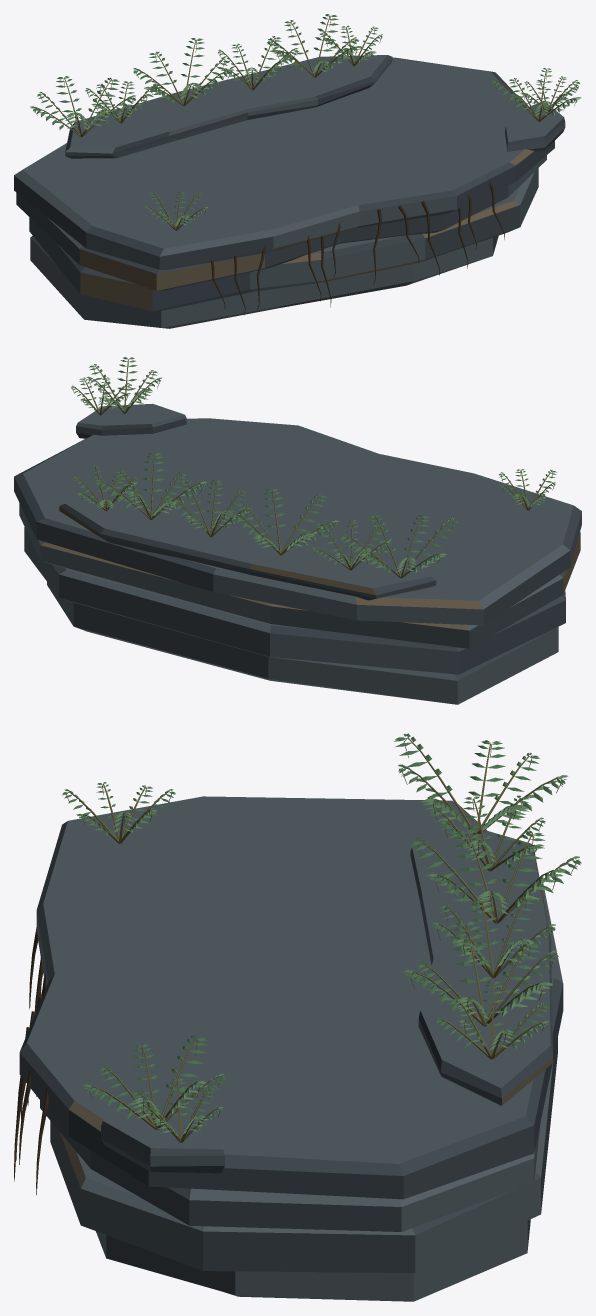
File: oblique_clearing_overlook.glb
3 views of the same model, one above another, from view 1: azimuth 30°, elevation 25°; view 2: azimuth 150°, elevation 25°; view 3: azimuth 270°, elevation 25° (orthographic). The views are drawn at different scales.
Parts seen in each view (by area): view 1: Walkable upper plate, Lower shale plate, Rear fern shelf, Buried foundation, Slanted seam, Outer shale fragment, Hanging roots, Curl fern 1, Curl fern 3, Curl fern 5, Curl fern 7, Curl fern 4 (+4 smaller); view 2: Walkable upper plate, Lower shale plate, Rear fern shelf, Buried foundation, Slanted seam, Outer shale fragment, Curl fern 1, Curl fern 3, Curl fern 5, Curl fern 4, Curl fern 7, Curl fern 2 (+3 smaller); view 3: Walkable upper plate, Rear fern shelf, Lower shale plate, Slanted seam, Buried foundation, Outer shale fragment, Curl fern 1, Curl fern 3, Curl fern 5, Curl fern 7, Curl fern 4, Curl fern 2 (+4 smaller).
Boxes of the visible parts, <box> form: Walkable upper plate: <box>14,57,554,269</box>; Lower shale plate: <box>29,168,538,311</box>; Rear fern shelf: <box>65,55,392,158</box>; Buried foundation: <box>30,235,498,328</box>; Slanted seam: <box>16,155,546,290</box>; Outer shale fragment: <box>505,101,565,151</box>; Hanging roots: <box>210,181,504,315</box>; Curl fern 1: <box>30,76,135,137</box>; Curl fern 3: <box>133,38,233,106</box>; Curl fern 5: <box>267,14,361,77</box>; Curl fern 7: <box>491,68,581,121</box>; Curl fern 4: <box>218,36,298,90</box>; Walkable upper plate: <box>14,418,581,625</box>; Lower shale plate: <box>24,527,565,674</box>; Rear fern shelf: <box>59,499,436,600</box>; Buried foundation: <box>47,582,558,704</box>; Slanted seam: <box>19,503,580,648</box>; Outer shale fragment: <box>76,403,186,438</box>; Curl fern 1: <box>340,514,458,578</box>; Curl fern 3: <box>226,489,338,555</box>; Curl fern 5: <box>94,453,206,519</box>; Curl fern 4: <box>165,479,251,537</box>; Curl fern 7: <box>86,357,161,413</box>; Curl fern 2: <box>311,519,390,570</box>; Walkable upper plate: <box>19,796,563,1199</box>; Rear fern shelf: <box>410,820,552,1105</box>; Lower shale plate: <box>50,1038,557,1272</box>; Slanted seam: <box>40,1100,540,1231</box>; Buried foundation: <box>96,1219,530,1301</box>; Outer shale fragment: <box>101,1094,224,1173</box>; Curl fern 1: <box>394,733,567,834</box>; Curl fern 3: <box>411,829,581,923</box>; Curl fern 5: <box>402,921,558,1026</box>; Curl fern 7: <box>82,1035,226,1129</box>; Curl fern 4: <box>431,896,555,978</box>; Curl fern 2: <box>430,795,545,871</box>.
Size of the model in its own units: 5.41 by 1.72 by 3.34.
